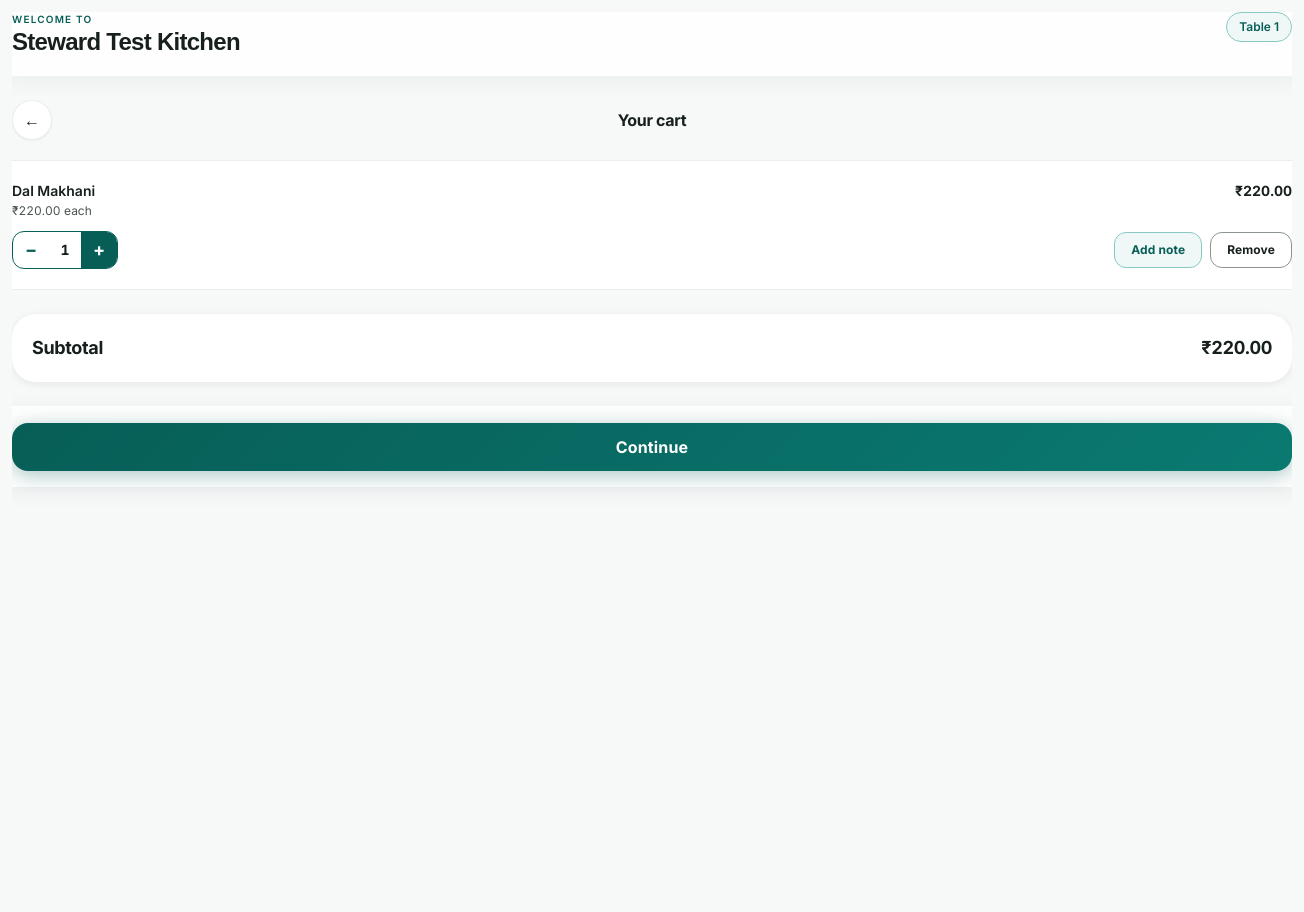
it: special instructions on the cart page › explains when a note is too long
Expected: the heading "Your cart" is shown, [618,110,686,130]
Click the button with aria-label "Add instructions for Dal Makhani".
click(1158, 250)  # box [1114,232,1202,268]
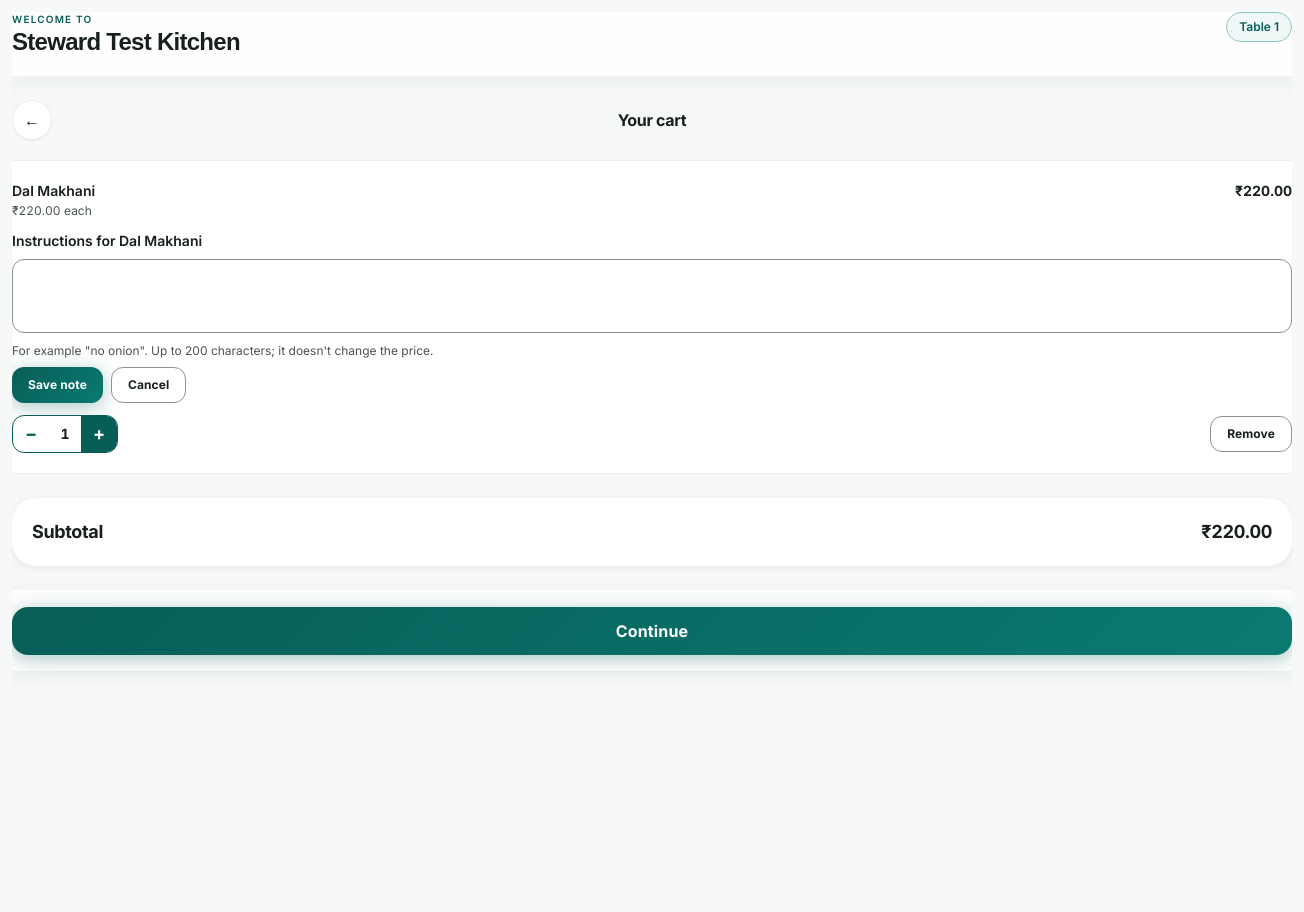
Type "x" into the text box.
click(652, 296); type("x")  # box [12,259,1292,333]
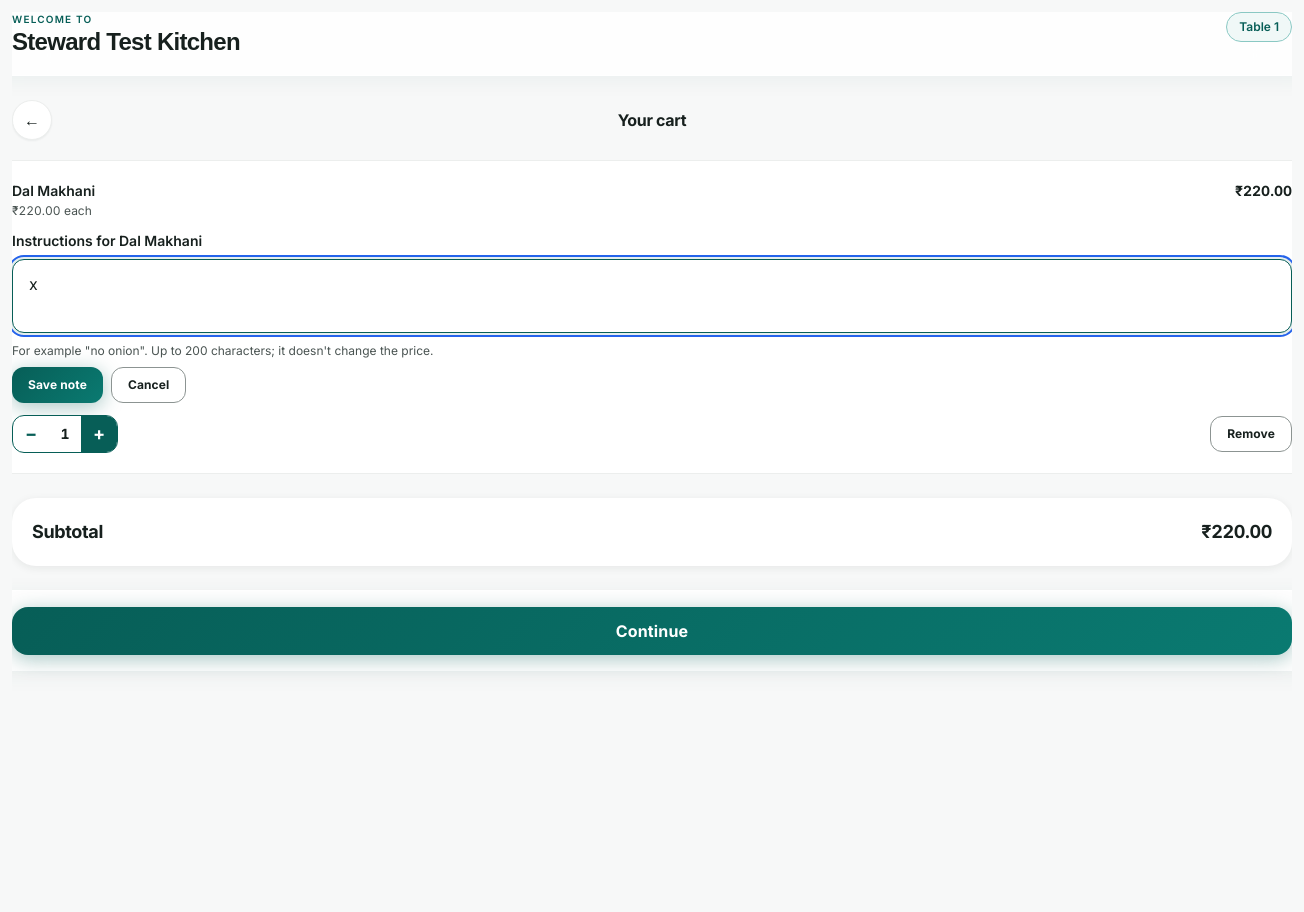
Click the button "Save note".
click(57, 385)  # box [12,367,103,403]
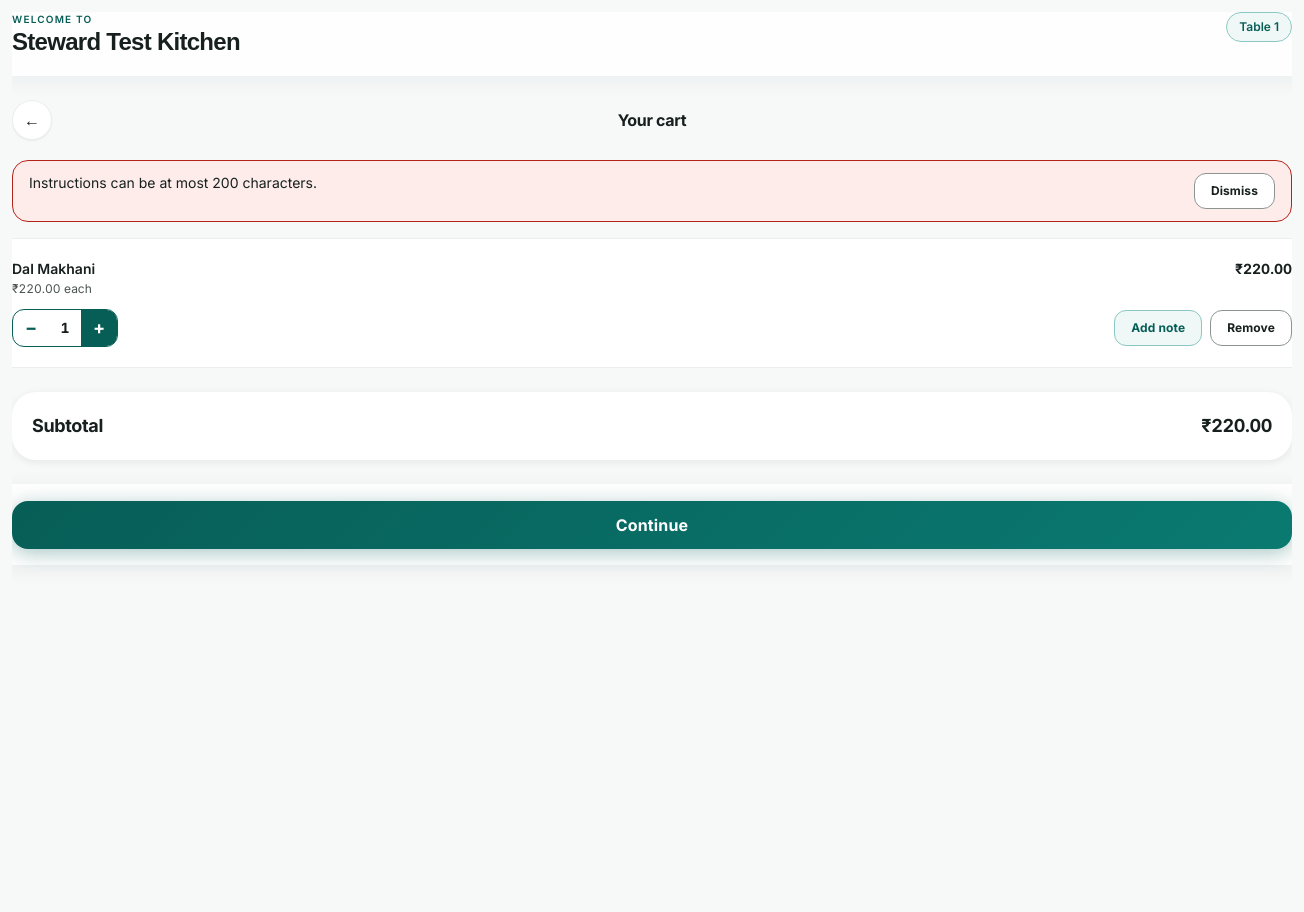
Expected: the text "Instructions can be at most 200 characters." is shown, [29,173,317,193]
